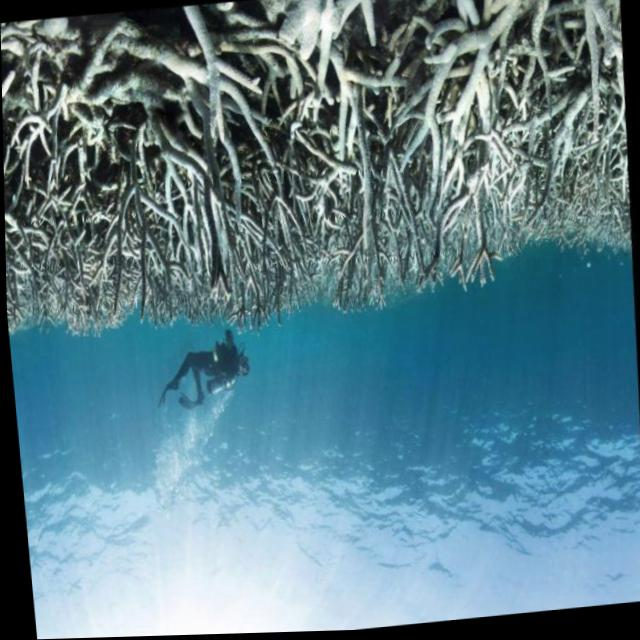Dead Coral: (0, 7, 618, 317)
